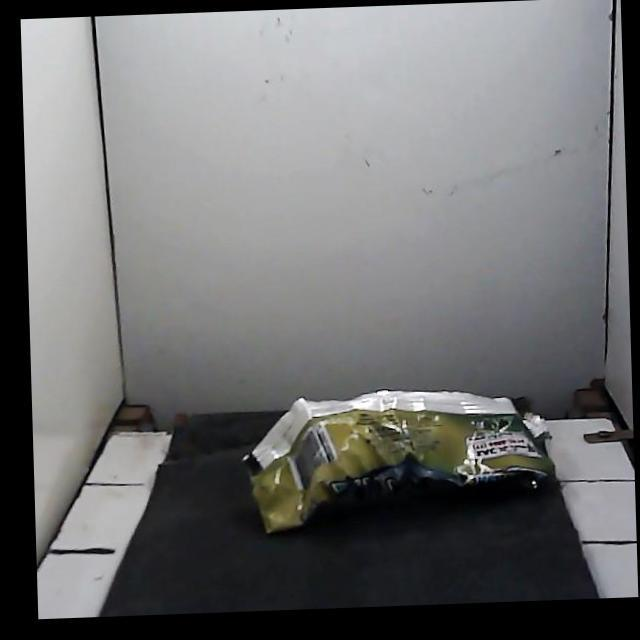plastico: (244, 391, 554, 532)
